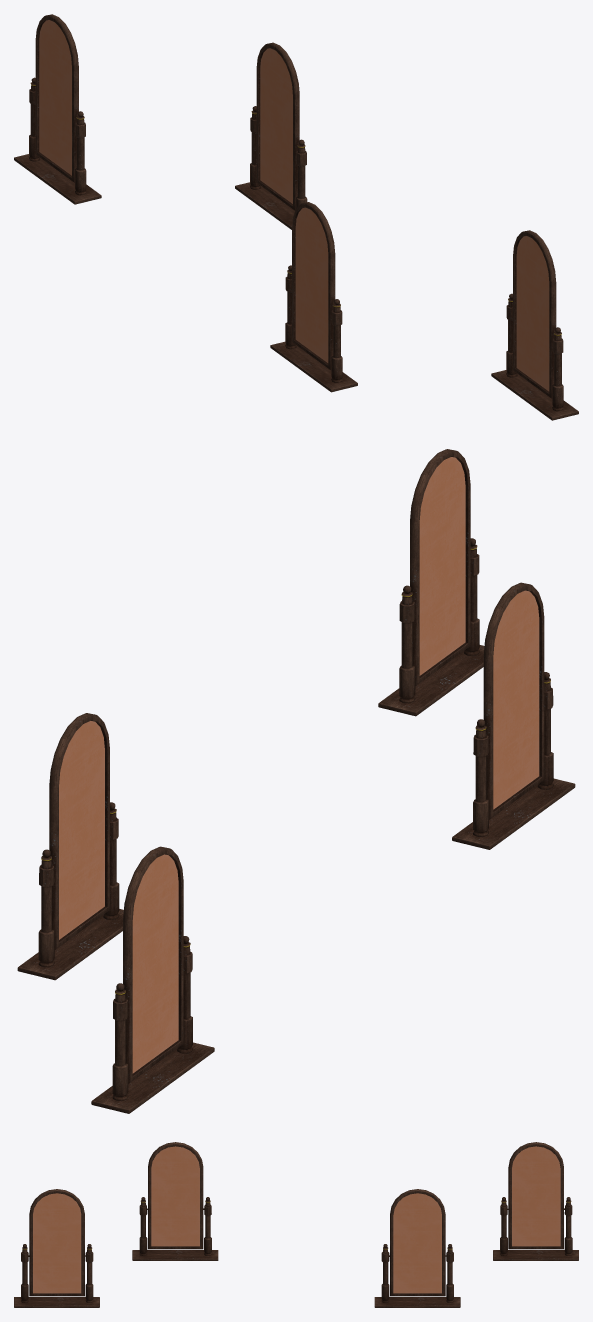
The model's file is Mirror_Model.fbx.
The picture shows the model from 3 angles, top to bottom: view 1: azimuth 30°, elevation 25°; view 2: azimuth 150°, elevation 25°; view 3: azimuth 270°, elevation 25°; orthographic projection. The views are drawn at different scales.
Visible parts, largest first — view 1: Mirror_Glass (×4), Mirror_Frame (×4); view 2: Mirror_Glass (×4), Mirror_Frame (×4); view 3: Mirror_Glass (×4), Mirror_Frame (×4).
Boxes of the visible parts, x1,y1,x2,y2 form: Mirror_Glass (×4): [39, 20, 549, 391]; Mirror_Frame (×4): [14, 14, 578, 420]; Mirror_Glass (×4): [59, 457, 539, 1073]; Mirror_Frame (×4): [17, 449, 575, 1113]; Mirror_Glass (×4): [33, 1146, 560, 1293]; Mirror_Frame (×4): [14, 1142, 578, 1307].
Bounding box in the file's own units: 225 × 213 × 956.
